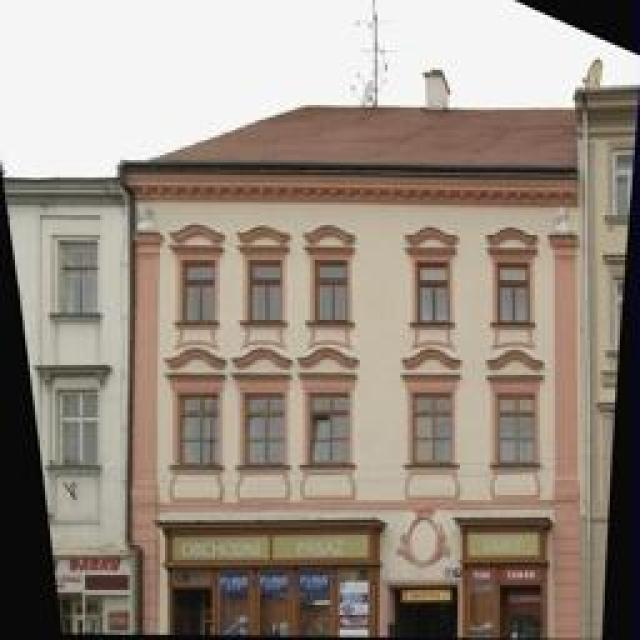building: (120, 80, 590, 640)
